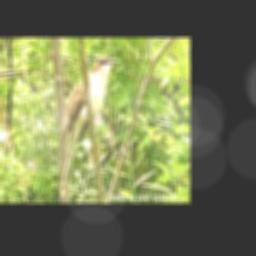Cuckoo: (60, 55, 118, 197)
